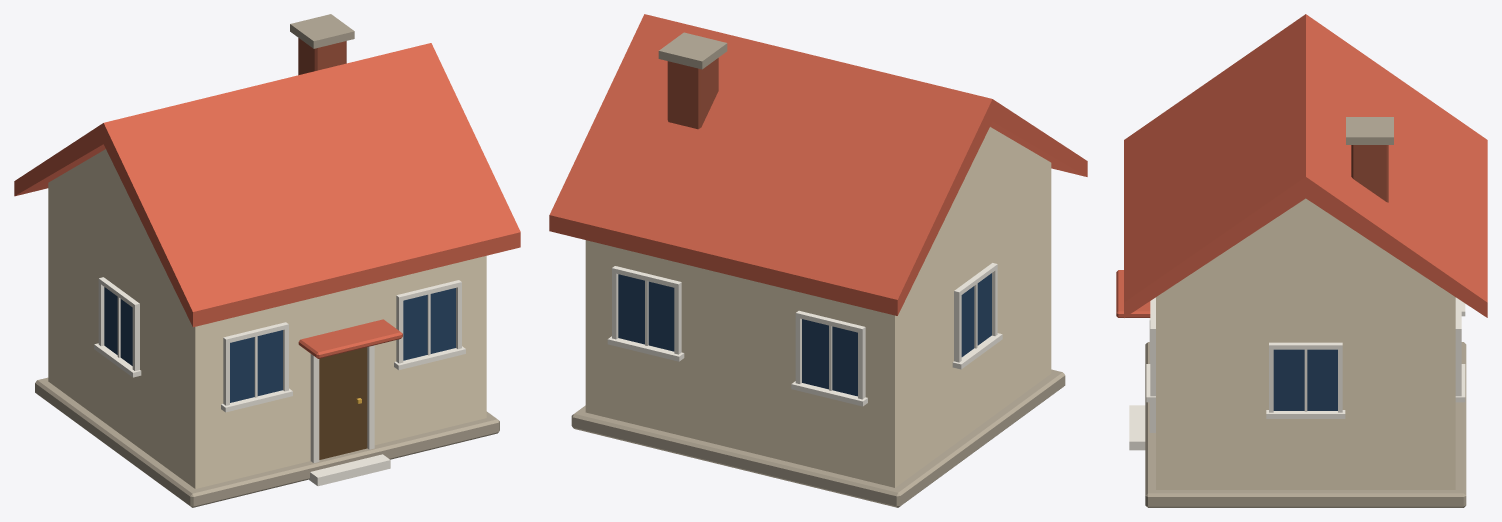
File: house-a.glb
3 renders of one model, left to right at view 1: azimuth 30°, elevation 25°; view 2: azimuth 150°, elevation 25°; view 3: azimuth 270°, elevation 25°, orthographic. The views are drawn at different scales.
Parts seen in each view (by area): view 1: house-a; view 2: house-a; view 3: house-a.
Part boxes in pixels (<box>): house-a: <box>14,14,520,507</box>; house-a: <box>549,14,1087,507</box>; house-a: <box>1116,14,1487,507</box>.
Size of the model in its own units: 7.2 by 7.18 by 6.95.
